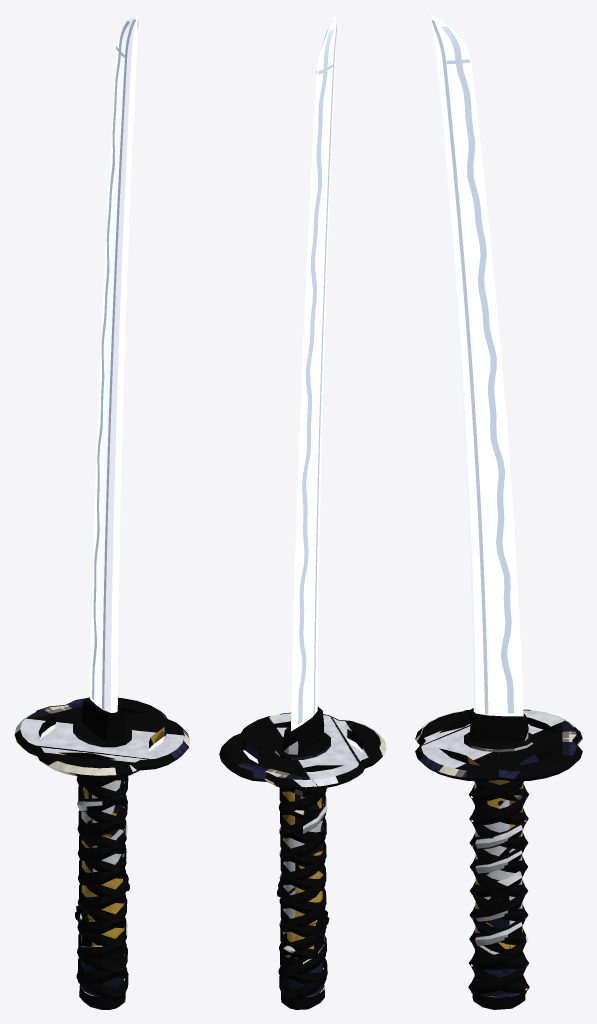
File: nodachi.fbx
3 renders of one model, left to right at view 1: azimuth 30°, elevation 25°; view 2: azimuth 150°, elevation 25°; view 3: azimuth 270°, elevation 25°, orthographic. The views are drawn at different scales.
Visible parts, largest first — view 1: nodachi, nodachi_blade, nodachi_glow; view 2: nodachi, nodachi_blade, nodachi_glow; view 3: nodachi_blade, nodachi, nodachi_glow.
Part boxes in pixels (x1,y1,x2,y2): nodachi: [14, 697, 190, 1009]; nodachi_blade: [90, 14, 137, 712]; nodachi_glow: [92, 19, 138, 709]; nodachi: [219, 707, 386, 1009]; nodachi_blade: [291, 14, 336, 731]; nodachi_glow: [298, 20, 337, 723]; nodachi_blade: [431, 14, 523, 716]; nodachi: [415, 708, 582, 1009]; nodachi_glow: [432, 20, 514, 714].
Size of the model in its own units: 120 by 824 by 126.
Materials: 3 (1 with a texture image).
